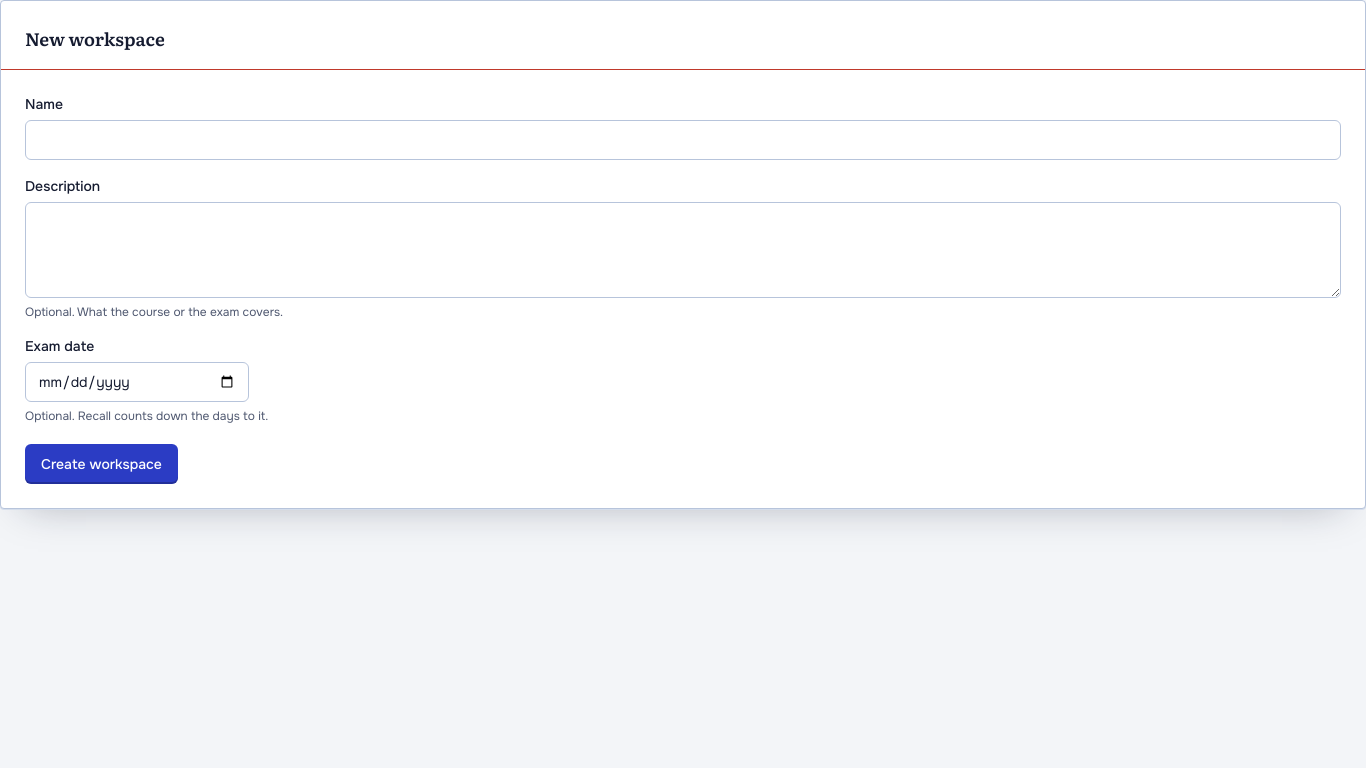
it: CreateWorkspaceForm › points at a field the server rejected, in its own words
Type "Organic chemistry" into the field labelled "Name" at (683, 140), box [25, 120, 1341, 160]
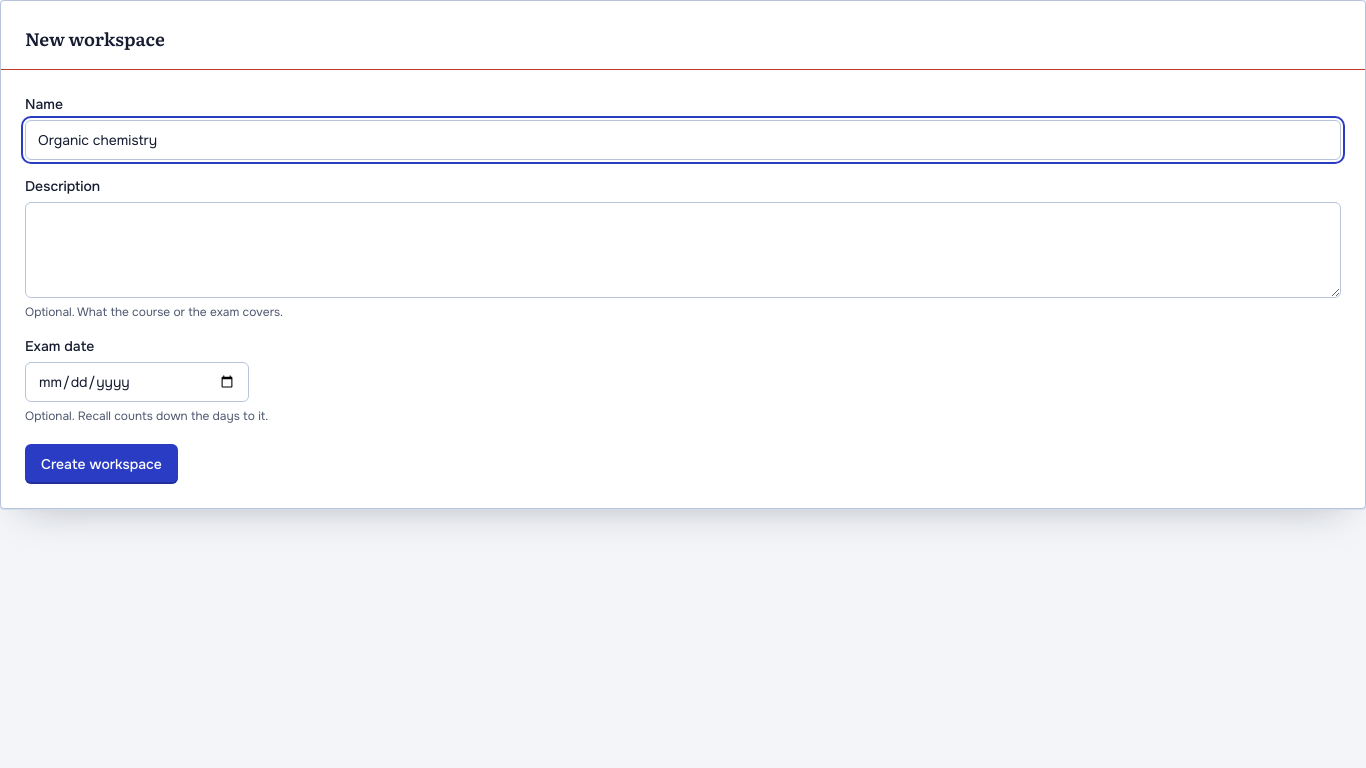
Click the button "Create workspace" at (101, 464), box [25, 444, 178, 484]
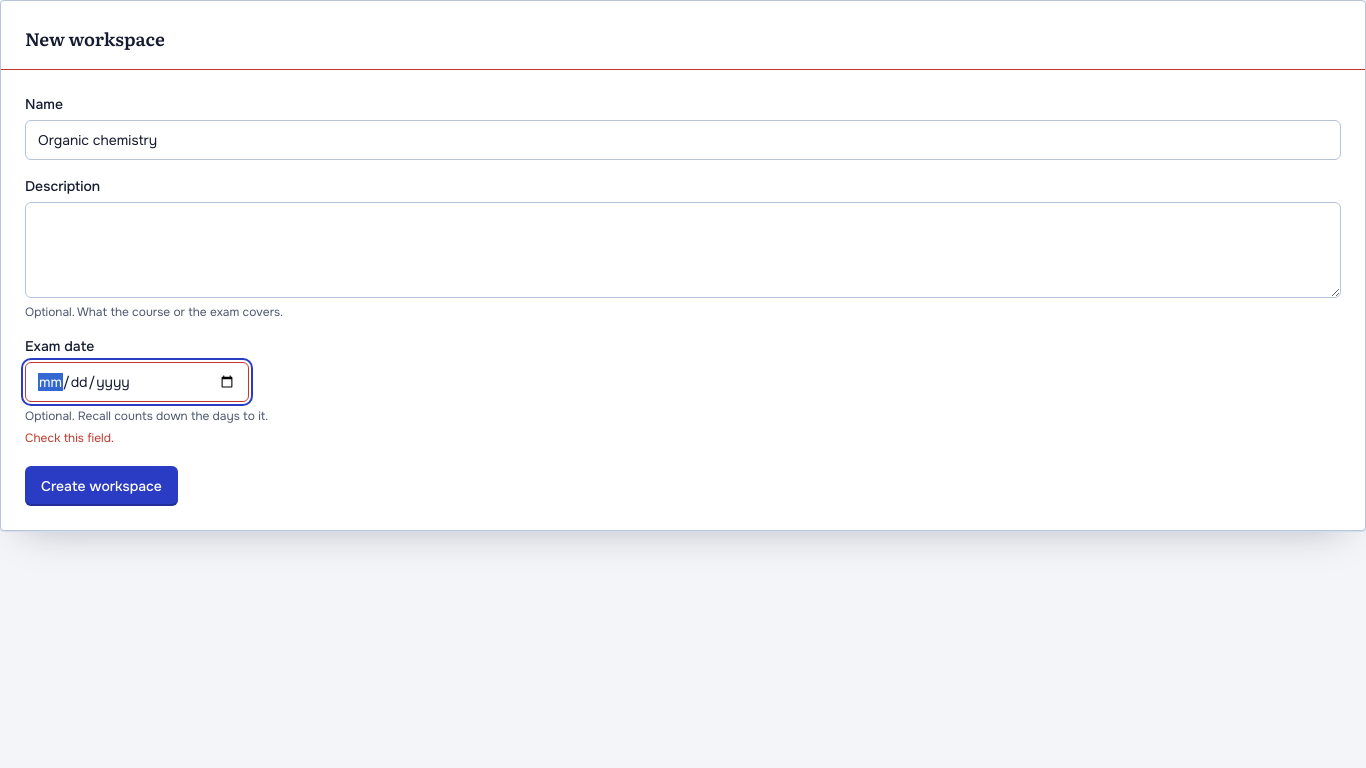
Result: the text "Check this field." is shown at [25, 430, 114, 446]
